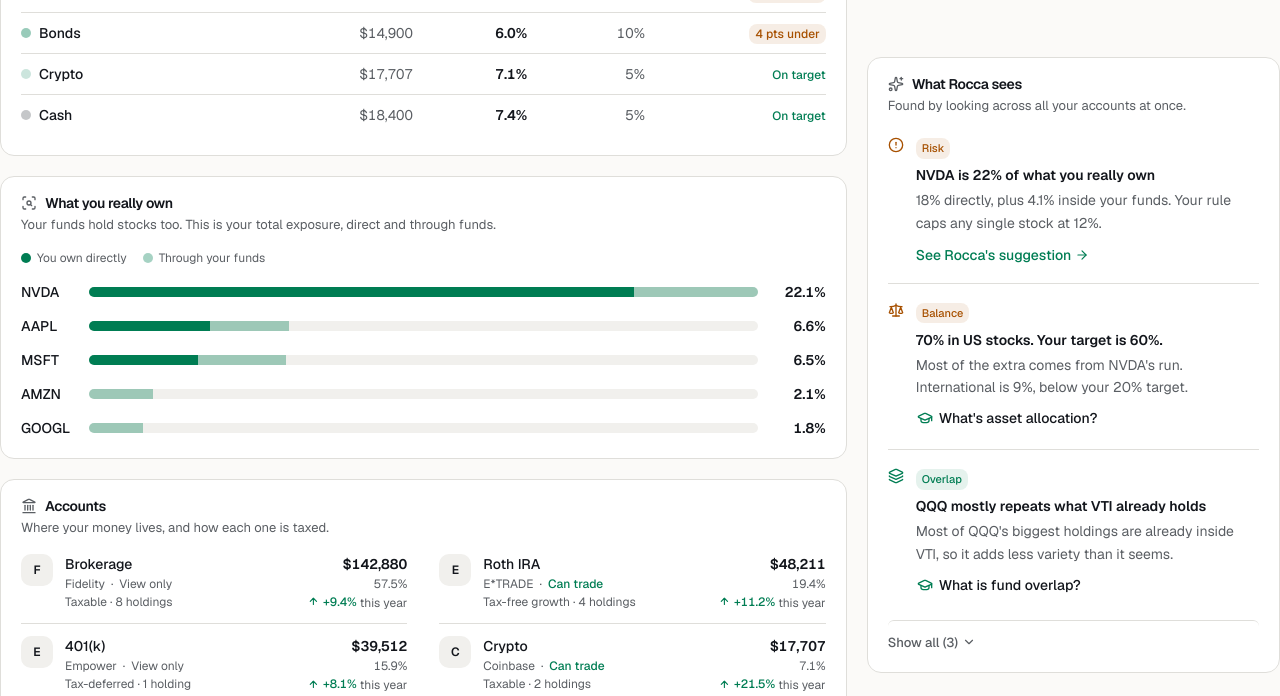
it: PortfolioPage › shows the first insights and the rest on demand
The image size is (1280, 696).
(page scrolled)
Click the button "Show all (3)" at (923, 642), box [888,619,1259,652]
(page scrolled)
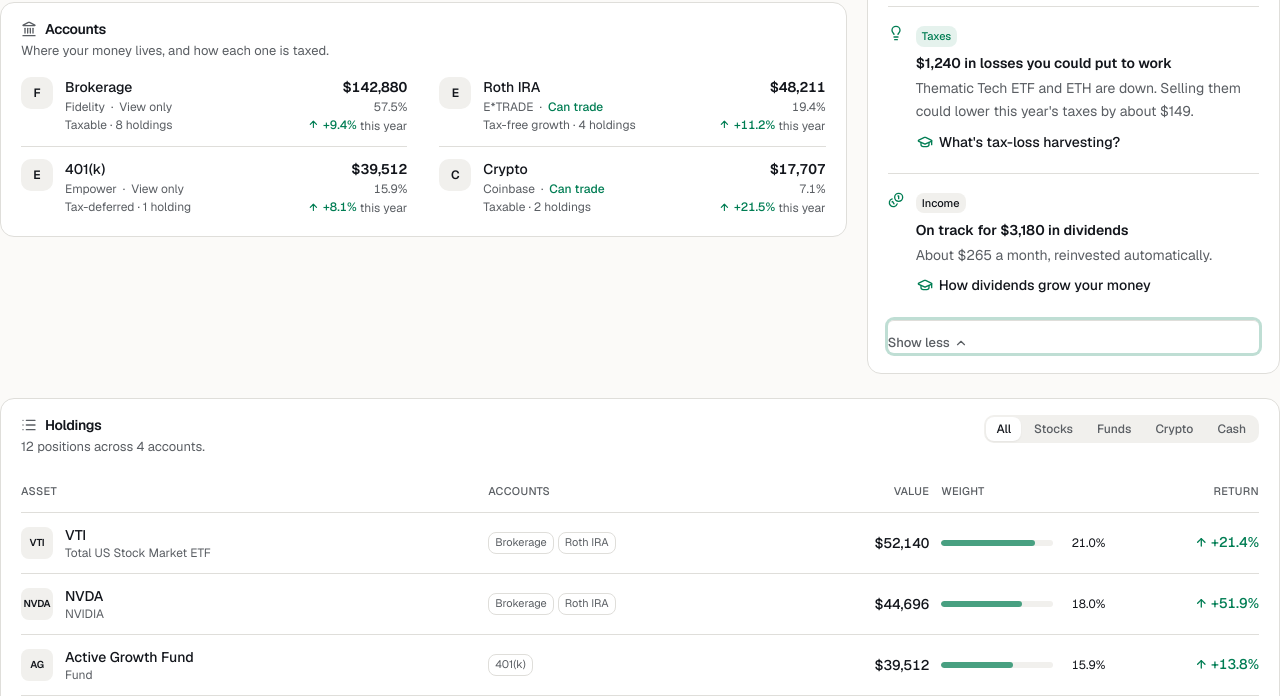
Expected: the button named "Show all" is expanded, [888,320,1259,353]
